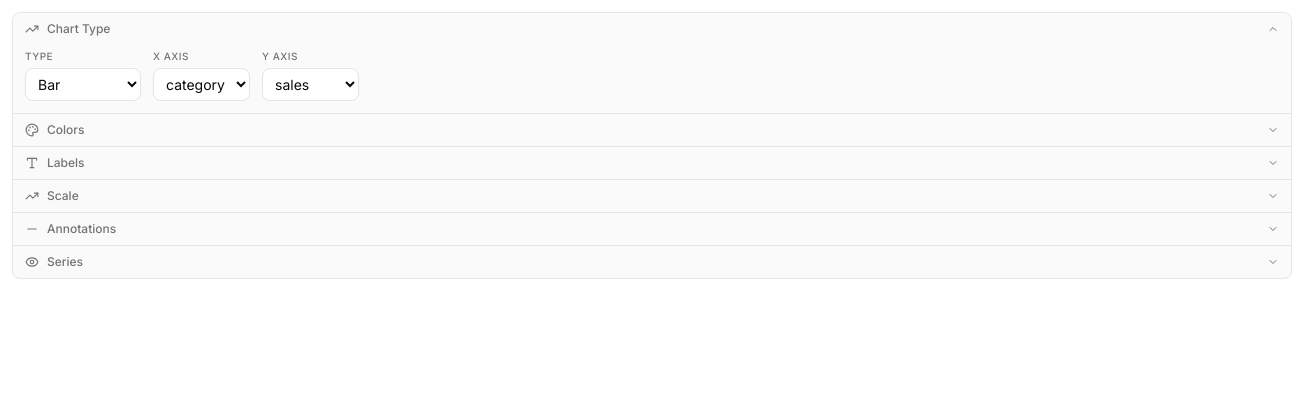
it: ChartEditor › Individual series color picker › renders color picker for each trace
Click the button with test id "section-toggle-colors".
click(66, 130)  # box [13,114,1291,146]
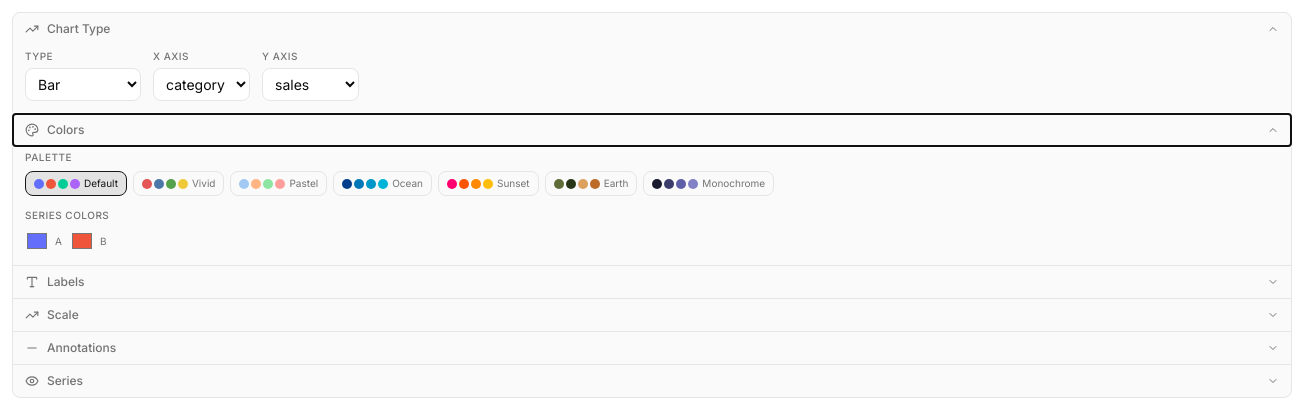
Expected: the colour field with test id "series-color-0" is shown, [25,229,49,253]
Expected: the colour field with test id "series-color-1" is shown, [70,229,94,253]
